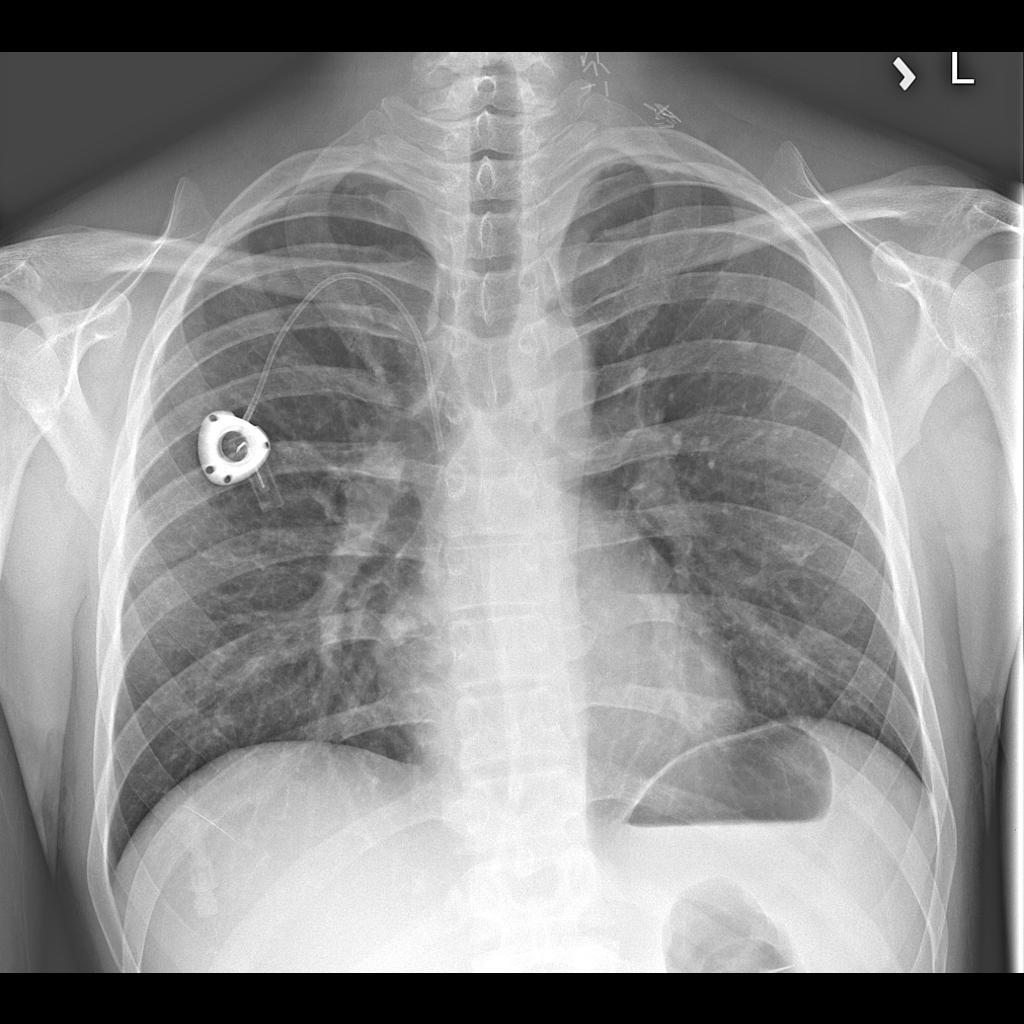Nodule: (376, 605, 426, 656), (721, 317, 772, 362)
